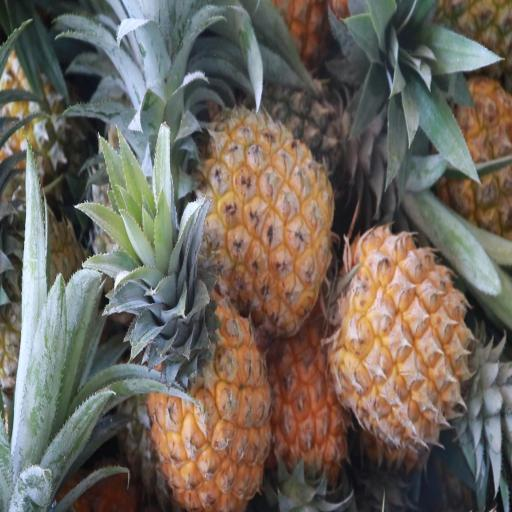Pineapple - v8 v1: (196, 104, 335, 339), (334, 234, 482, 453), (150, 247, 269, 512), (267, 337, 352, 512)
